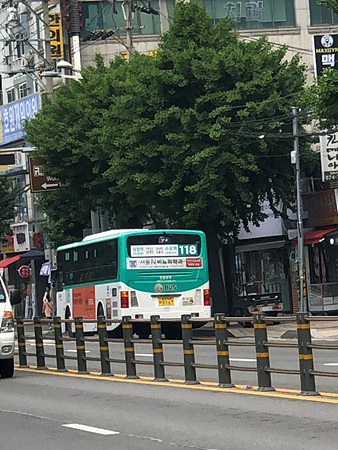bnum: (178, 244, 198, 255)
